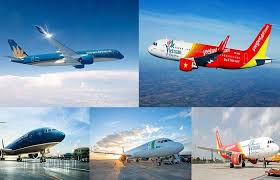maybay_dansu: (4, 28, 129, 73), (153, 25, 275, 68), (2, 124, 68, 168), (202, 132, 280, 165), (102, 138, 187, 162)
